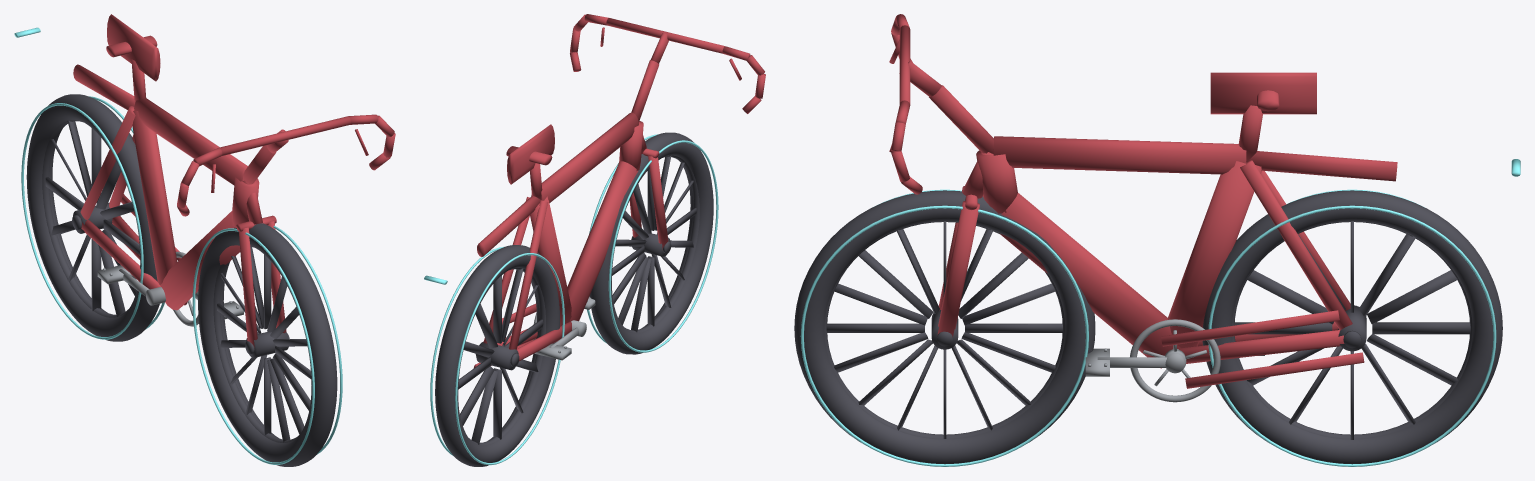
File: bike_race.gltf
3 views of the same model, side by side, from view 1: azimuth 30°, elevation 25°; view 2: azimuth 150°, elevation 25°; view 3: azimuth 270°, elevation 25° (orthographic). The views are drawn at different scales.
Visible parts, largest first — view 1: frame, wheel_front, wheel_rear, glow_accents, crank_set; view 2: frame, wheel_rear, wheel_front, glow_accents, crank_set; view 3: frame, wheel_front, wheel_rear, glow_accents, crank_set.
Boxes of the visible parts, box(x1,y1,x2,y2) form: frame: box(73, 14, 395, 348); wheel_front: box(198, 223, 337, 466); wheel_rear: box(26, 94, 159, 341); glow_accents: box(14, 27, 342, 464); crank_set: box(97, 251, 243, 326); frame: box(474, 14, 765, 367); wheel_rear: box(435, 245, 559, 466); wheel_front: box(589, 132, 713, 354); glow_accents: box(424, 134, 718, 465); crank_set: box(533, 296, 595, 360); frame: box(889, 14, 1397, 388); wheel_front: box(794, 190, 1095, 464); wheel_rear: box(1202, 190, 1502, 464); glow_accents: box(800, 159, 1520, 466); crank_set: box(1085, 319, 1264, 402).
Size of the model in its own units: 0.6633 by 1.01 by 1.64.
